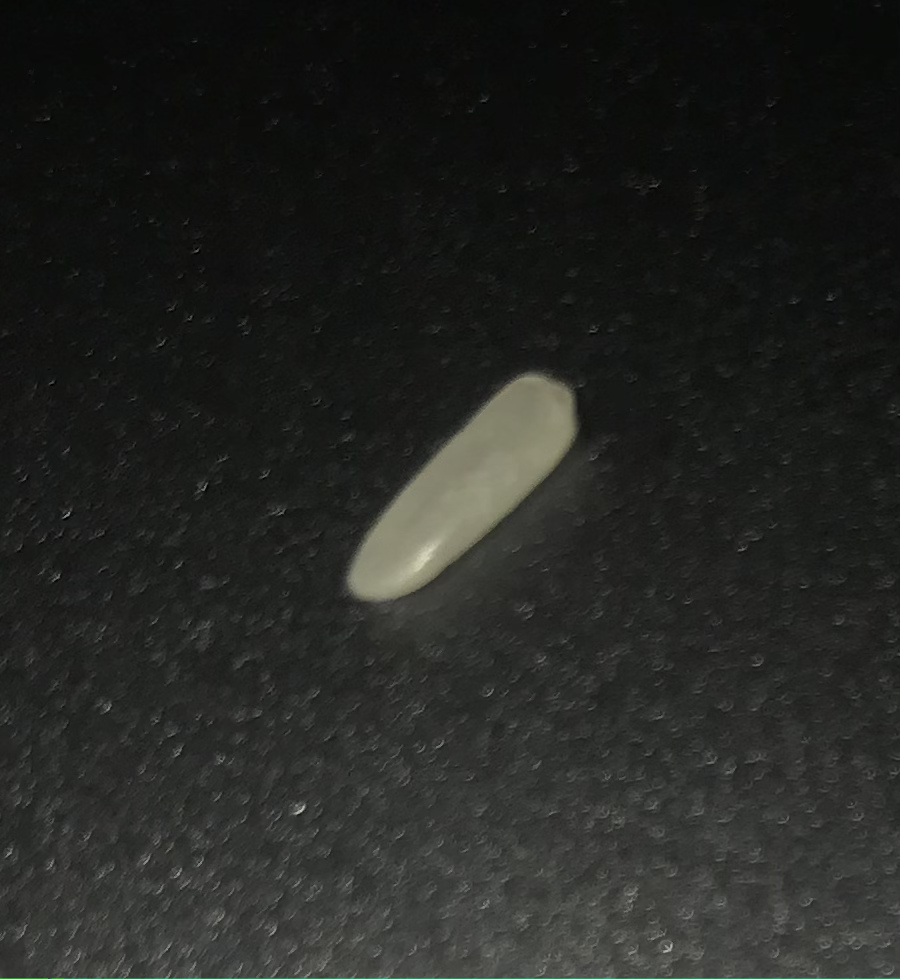Gao Thom My: (324, 322, 585, 604)
